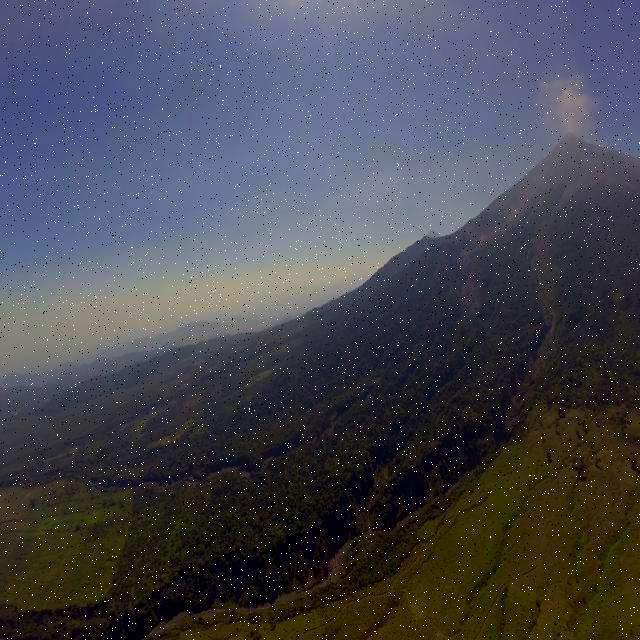Plume: (552, 80, 595, 132)
Summit: (554, 128, 583, 150)
